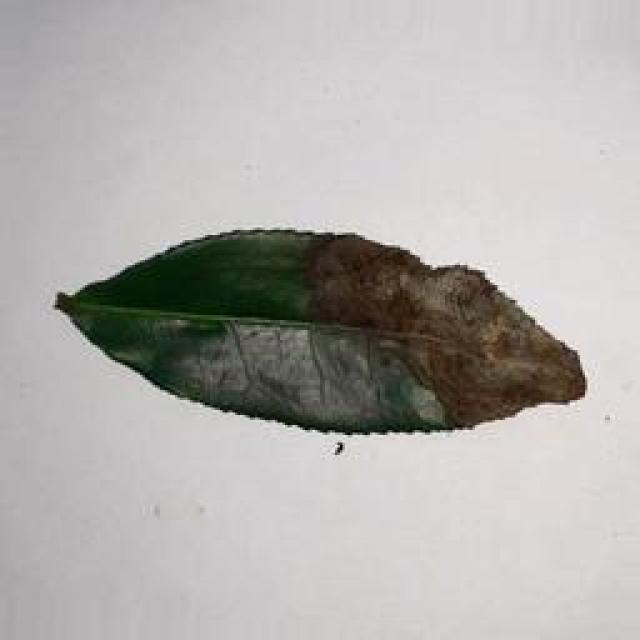Brown Blight: (52, 212, 592, 434)
